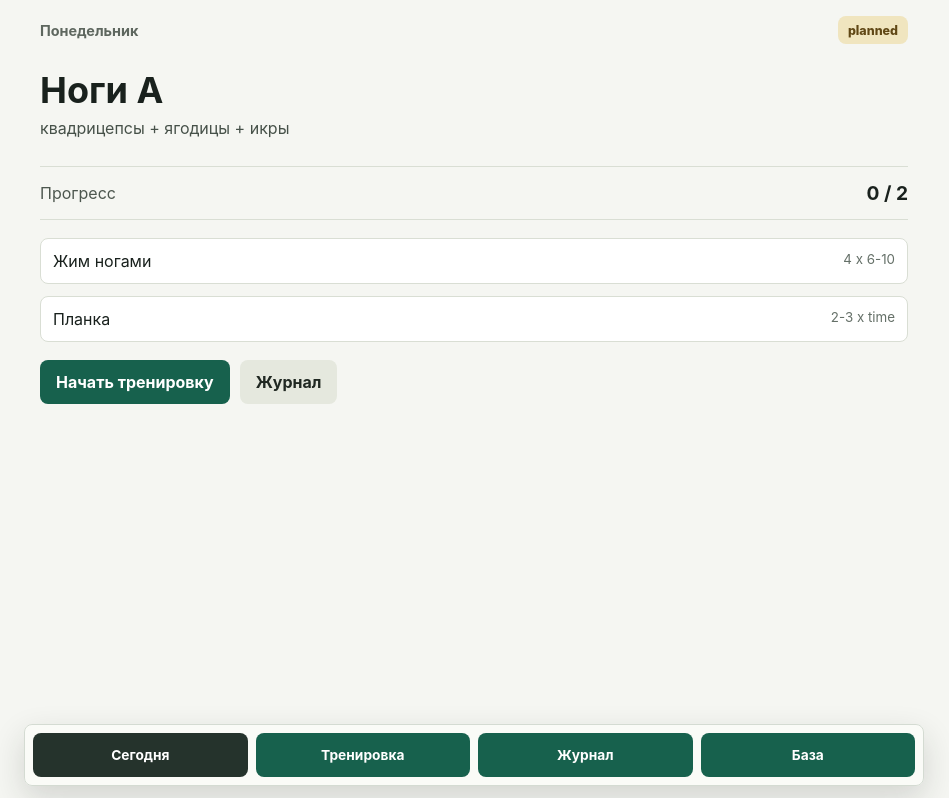
Test case: Mini App tracker › marks an exercise completed
Click the button "Начать тренировку" at (135, 382), box [40, 360, 230, 404]
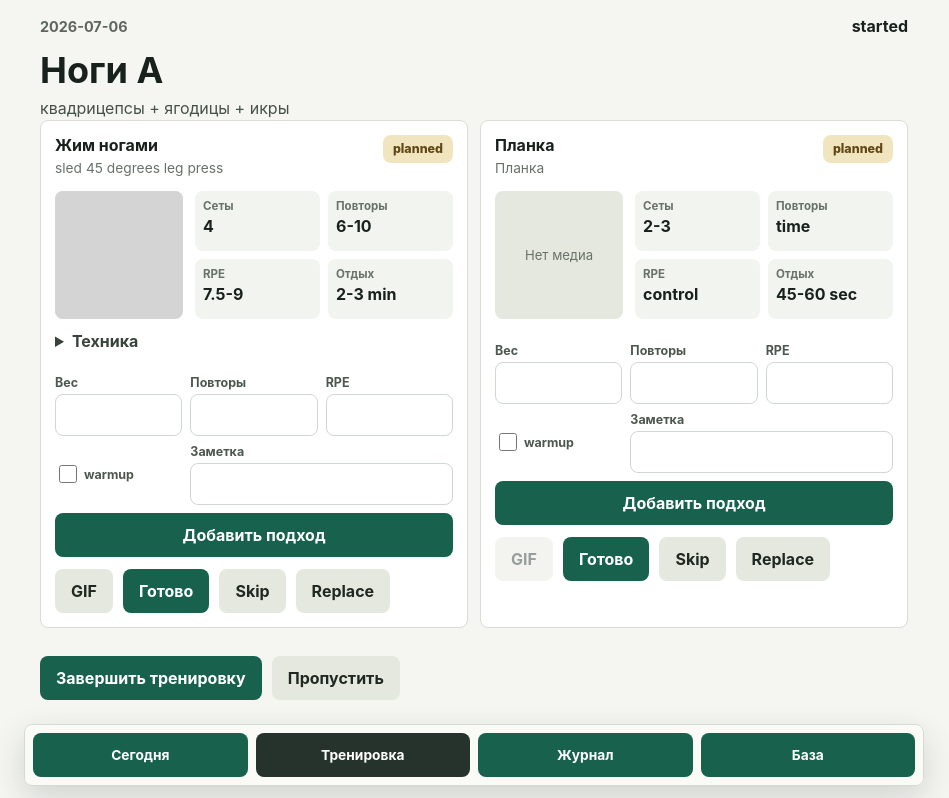
Click the button "Готово" below "Техника" at (166, 591), box [123, 569, 209, 613]
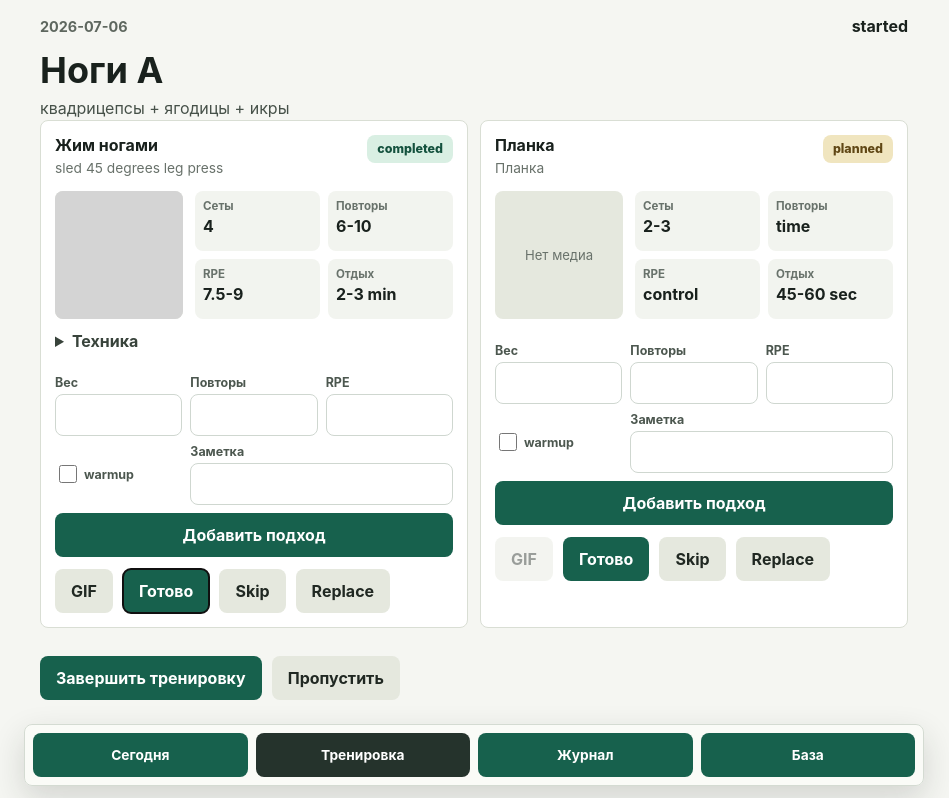
Expected: the text "completed" is shown, [367, 135, 453, 163]
